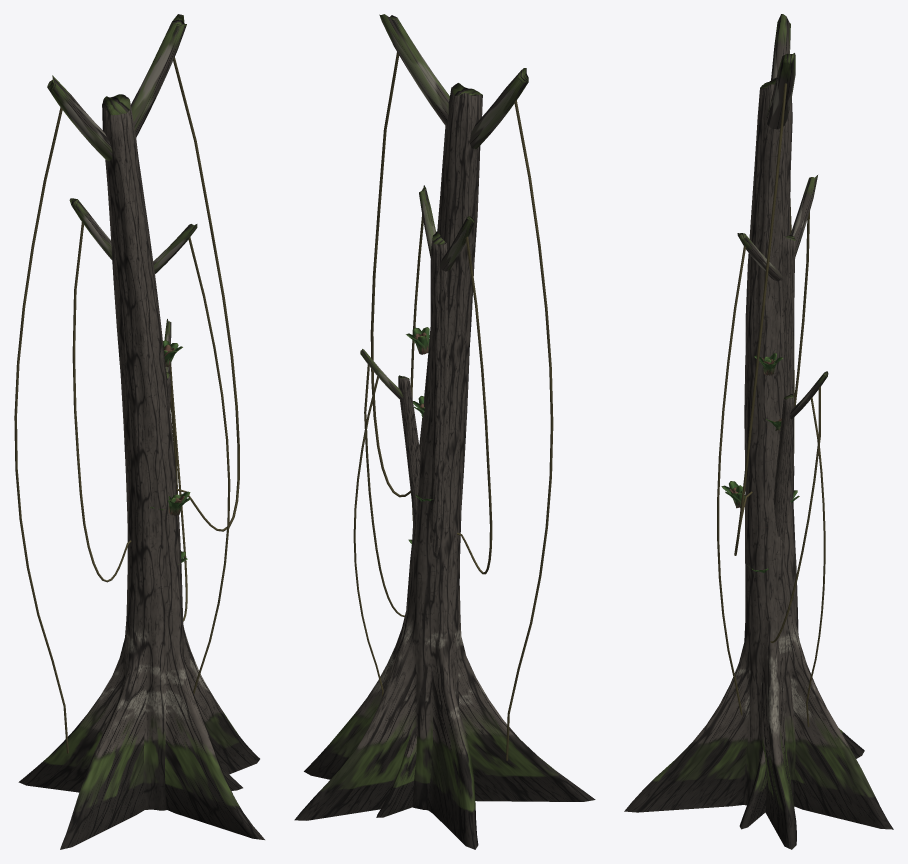
File: trunk_selva_kit_hp_LOD0.glb
3 views of the same model, side by side, from view 1: azimuth 30°, elevation 25°; view 2: azimuth 150°, elevation 25°; view 3: azimuth 270°, elevation 25° (orthographic). The views are drawn at different scales.
Parts seen in each view (by area): view 1: Trunk_Thick_LOD0, Trunk_Medium_LOD0, Trunk_Thin_LOD0; view 2: Trunk_Thick_LOD0, Trunk_Medium_LOD0, Trunk_Thin_LOD0; view 3: Trunk_Thick_LOD0, Trunk_Medium_LOD0, Trunk_Thin_LOD0.
Boxes of the visible parts, left/top/right/bottom form: Trunk_Thick_LOD0: left=14, top=14, right=264, bottom=849; Trunk_Medium_LOD0: left=69, top=198, right=242, bottom=790; Trunk_Thin_LOD0: left=164, top=319, right=187, bottom=621; Trunk_Thick_LOD0: left=294, top=14, right=595, bottom=849; Trunk_Medium_LOD0: left=376, top=185, right=492, bottom=817; Trunk_Thin_LOD0: left=353, top=349, right=432, bottom=696; Trunk_Thick_LOD0: left=624, top=14, right=893, bottom=849; Trunk_Medium_LOD0: left=717, top=175, right=817, bottom=829; Trunk_Thin_LOD0: left=747, top=371, right=828, bottom=726.
Bounding box in the file's own units: 5 × 14.89 × 4.8.
Materials: 1 (1 with a texture image).
